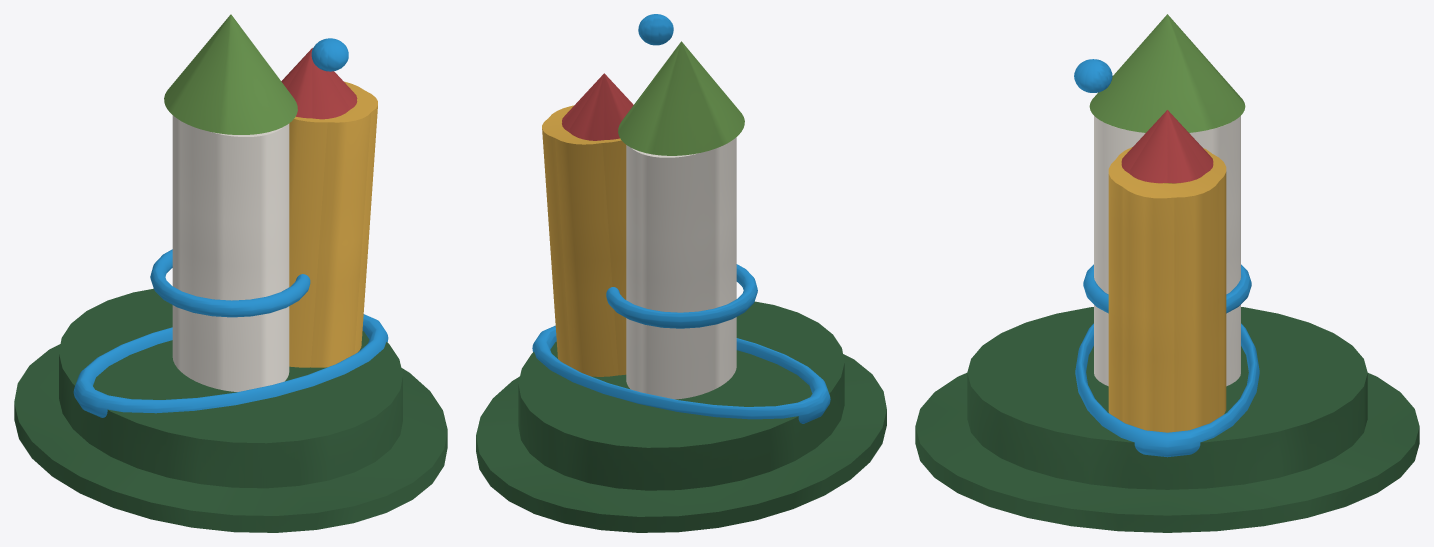
Rendered from 0546_岩石矿物图鉴_自然金.glb.
3 views of the same model, side by side, from view 1: azimuth 30°, elevation 25°; view 2: azimuth 150°, elevation 25°; view 3: azimuth 270°, elevation 25° (orthographic). The views are drawn at different scales.
Parts seen in each view (by area): view 1: card_0546; view 2: card_0546; view 3: card_0546.
Boxes of the visible parts, <box> form: card_0546: <box>14,14,447,532</box>; card_0546: <box>476,14,886,532</box>; card_0546: <box>915,14,1419,532</box>.
Bounding box in the file's own units: 0.8917 × 1 × 1.06.
